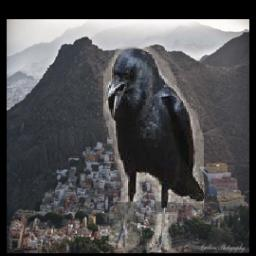Crow: (103, 48, 204, 253)
